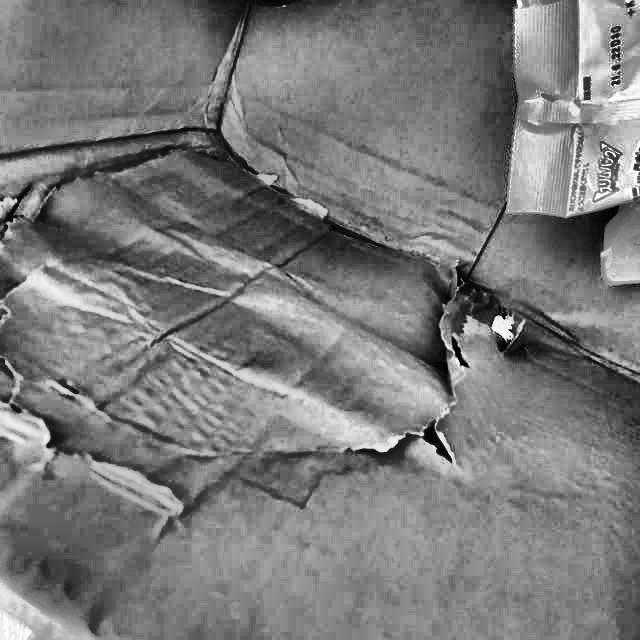box: (0, 0, 640, 640)
hole: (409, 336, 482, 474)
